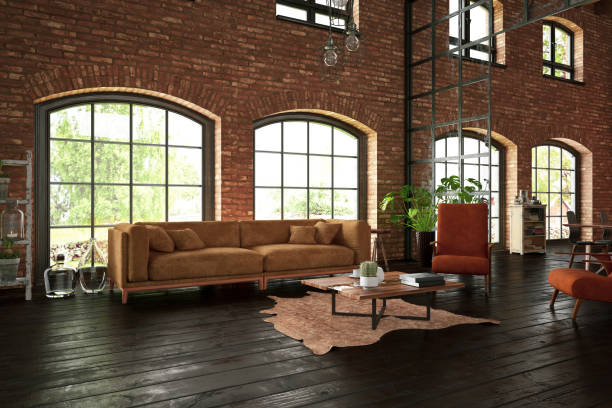chair: (429, 200, 495, 300), (539, 242, 612, 321)
large plant: (379, 177, 436, 263)
small plant: (359, 259, 379, 288)
sofa: (104, 216, 373, 305)
table: (300, 273, 467, 329)
